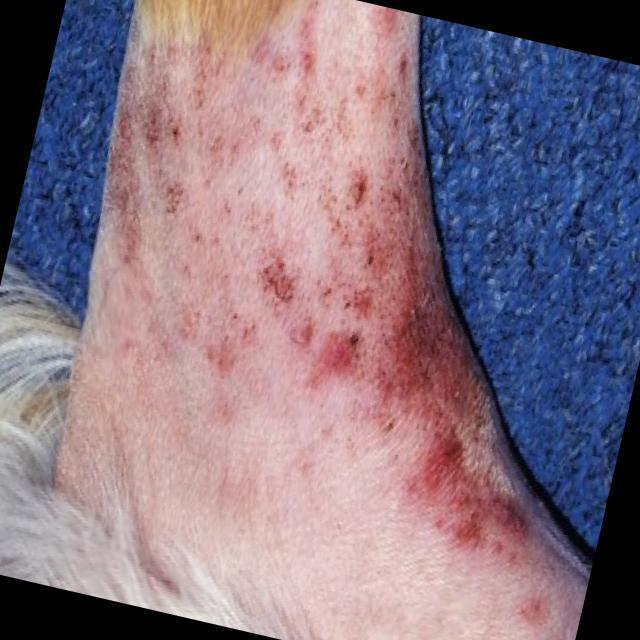fungal infection: (281, 17, 411, 313), (121, 81, 267, 256), (288, 316, 487, 427), (390, 418, 535, 552), (110, 259, 260, 373), (401, 134, 457, 312), (494, 587, 562, 632)
